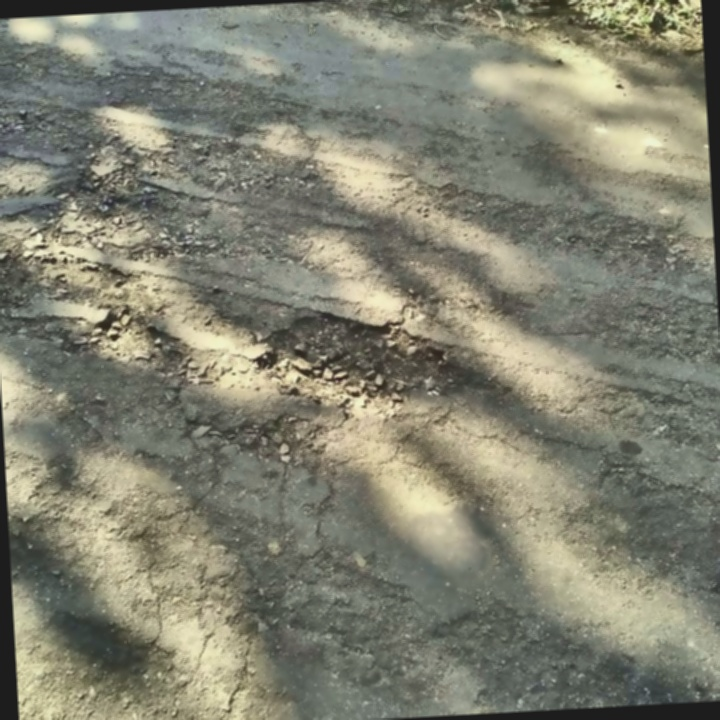pothole: (253, 300, 464, 416)
